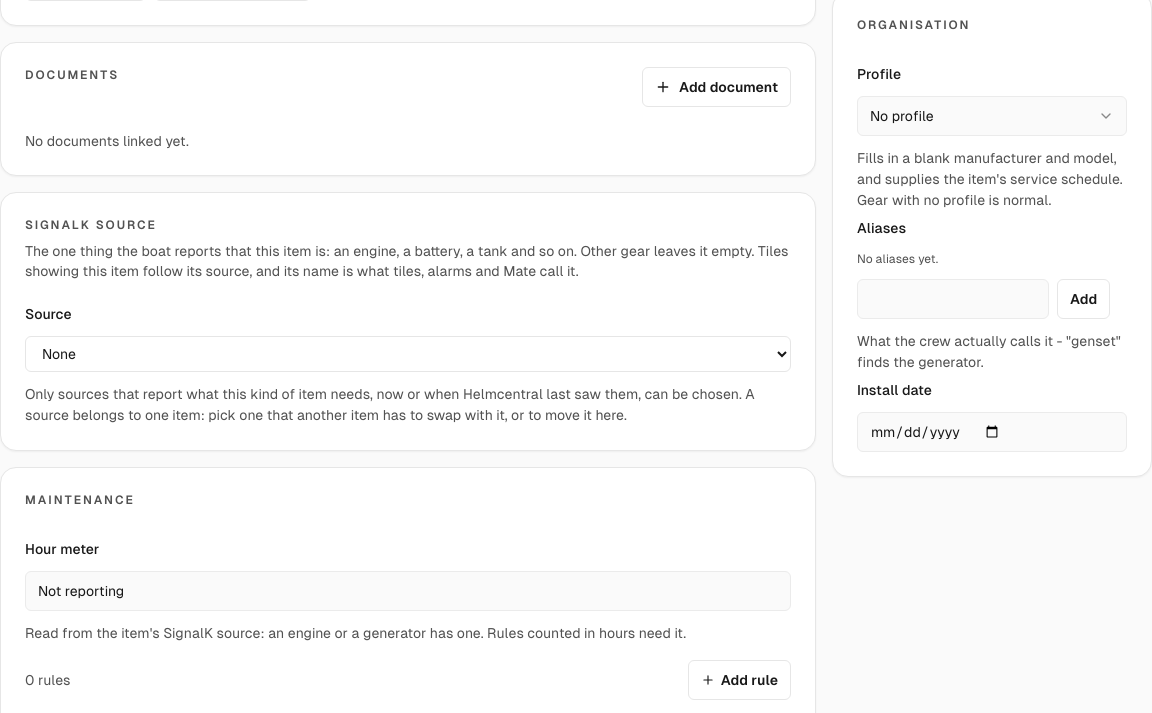
Test case: EquipmentEditor › taking a source another item owns › says when a move takes the owner's figures with it
(page scrolled)
Select "electrical.batteries.512 · 13.10 V · on Lithium bank" in the dropdown labelled "Source" at point(408, 354), box x1=25 y1=336 x2=791 y2=372
(page scrolled)
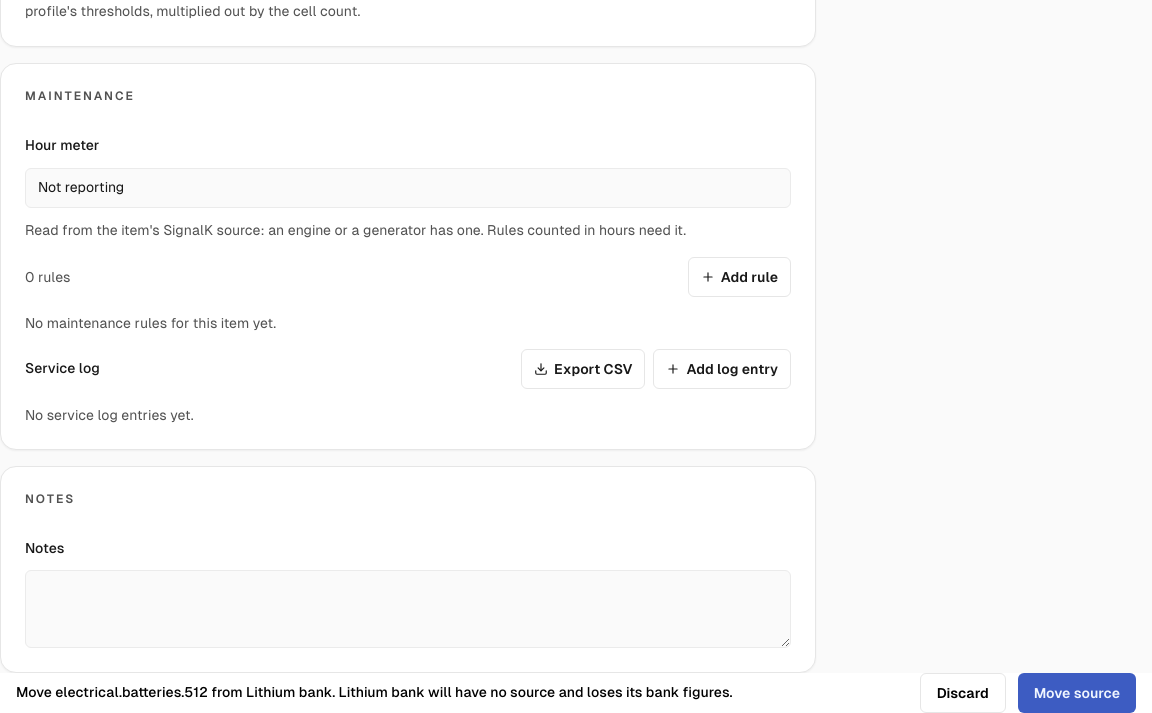
Result: the text "Move electrical.batteries.512 from Lithium bank. Lithium bank will have no source and loses its bank figures." is shown at x1=16 y1=684 x2=733 y2=700
